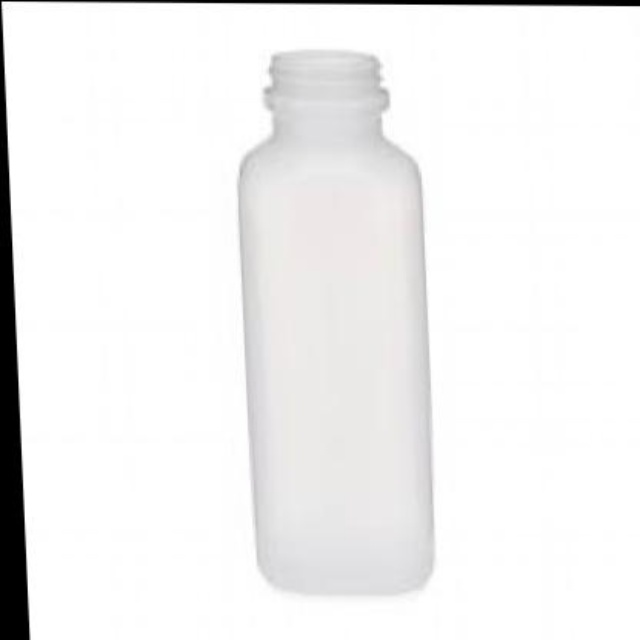trash: (238, 51, 432, 592)
